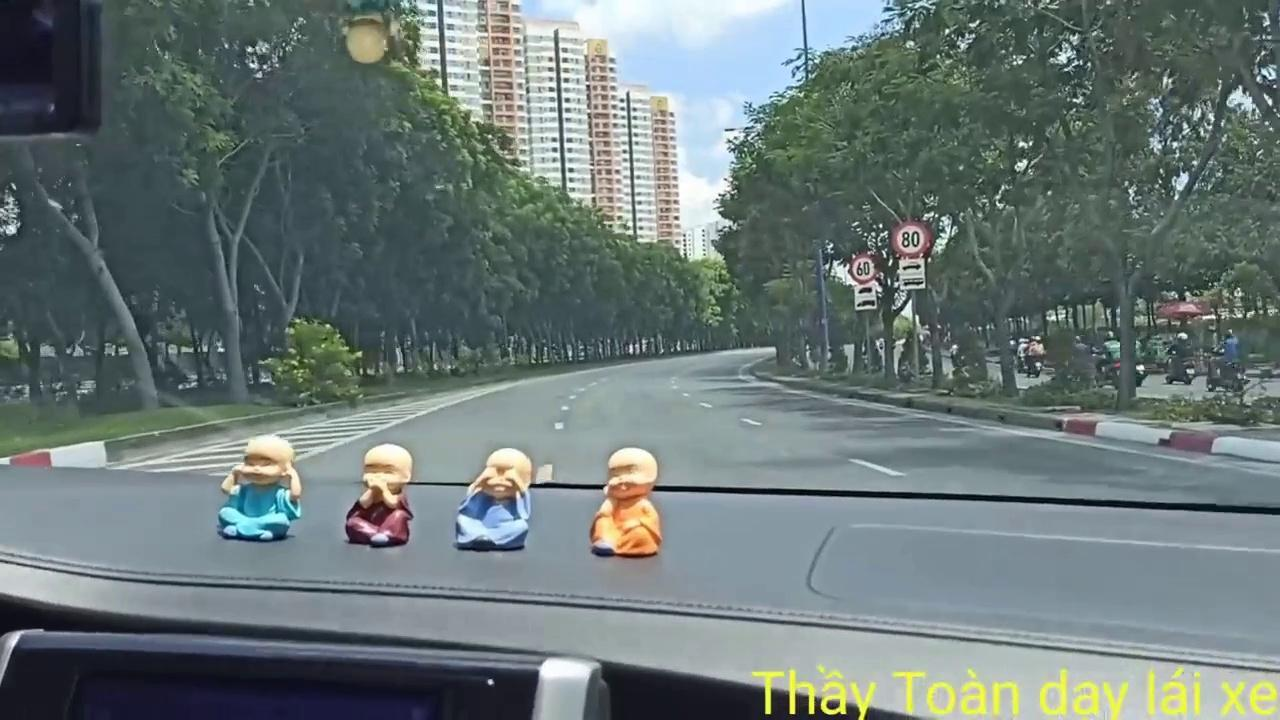Biển phụ: (898, 258, 926, 290), (854, 286, 876, 310)
GIơi hạn tốc độ 60Km/h: (847, 252, 879, 284)
Giới hạn tốc độ 80Km/h: (891, 219, 932, 257)
